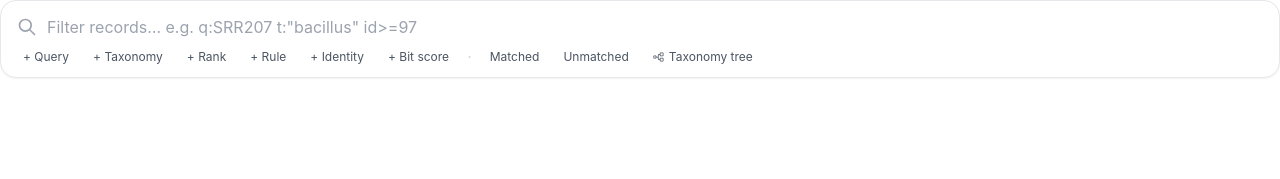
it: FilterBar value suggestions › clicking a key button opens its values, most frequent first, with counts
Click the button "+ Rank": (206, 57) x1=177 y1=47 x2=236 y2=67
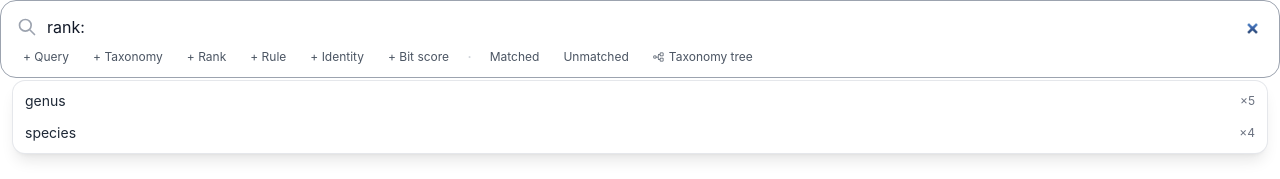
Expected: the options read "genus×5", "species×4", in this order, x1=25 y1=92 x2=1255 y2=109; x1=25 y1=124 x2=1255 y2=141
Expected: the dropdown named "Filter records" is expanded, x1=45 y1=13 x2=1263 y2=41
